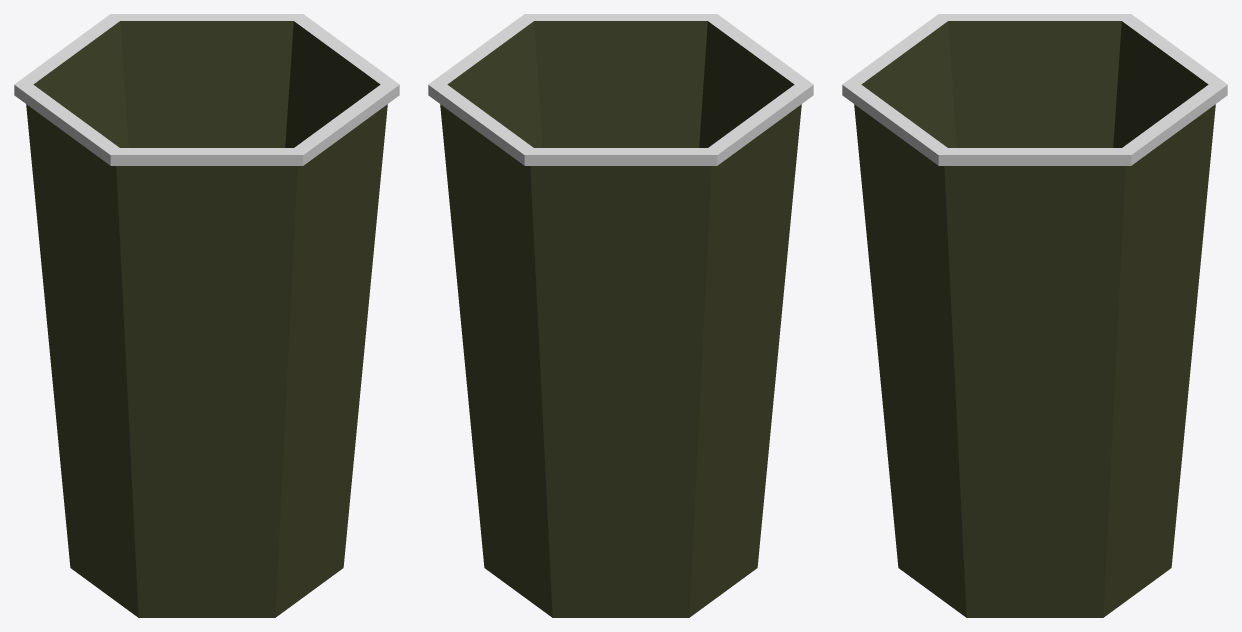
Rendered from CoffeeCard1.fbx.
3 renders of one model, left to right at view 1: azimuth 30°, elevation 25°; view 2: azimuth 150°, elevation 25°; view 3: azimuth 270°, elevation 25°, orthographic.
Visible parts, largest first — view 1: Cylinder.001; view 2: Cylinder.001; view 3: Cylinder.001.
Part boxes in pixels (x1=…): Cylinder.001: x1=14, y1=14, x2=399, y2=617; Cylinder.001: x1=428, y1=14, x2=813, y2=617; Cylinder.001: x1=842, y1=14, x2=1227, y2=617.
Bounding box in the file's own units: 60.1 × 95.98 × 69.4.
